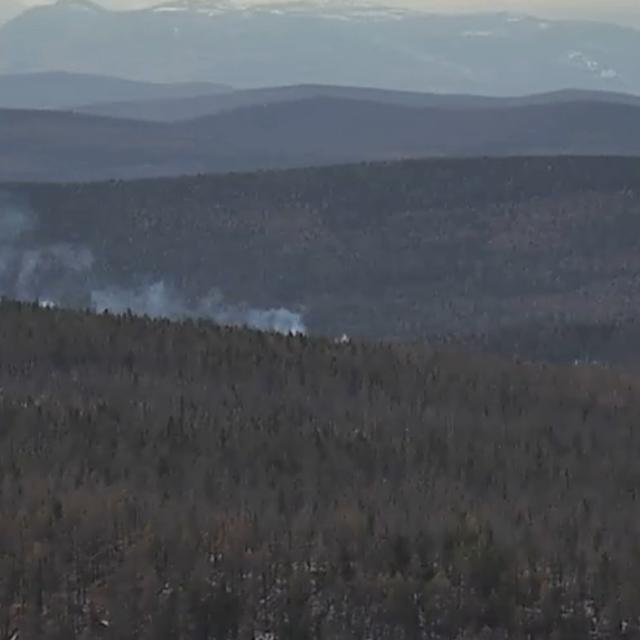Smoke: (0, 204, 315, 333)
